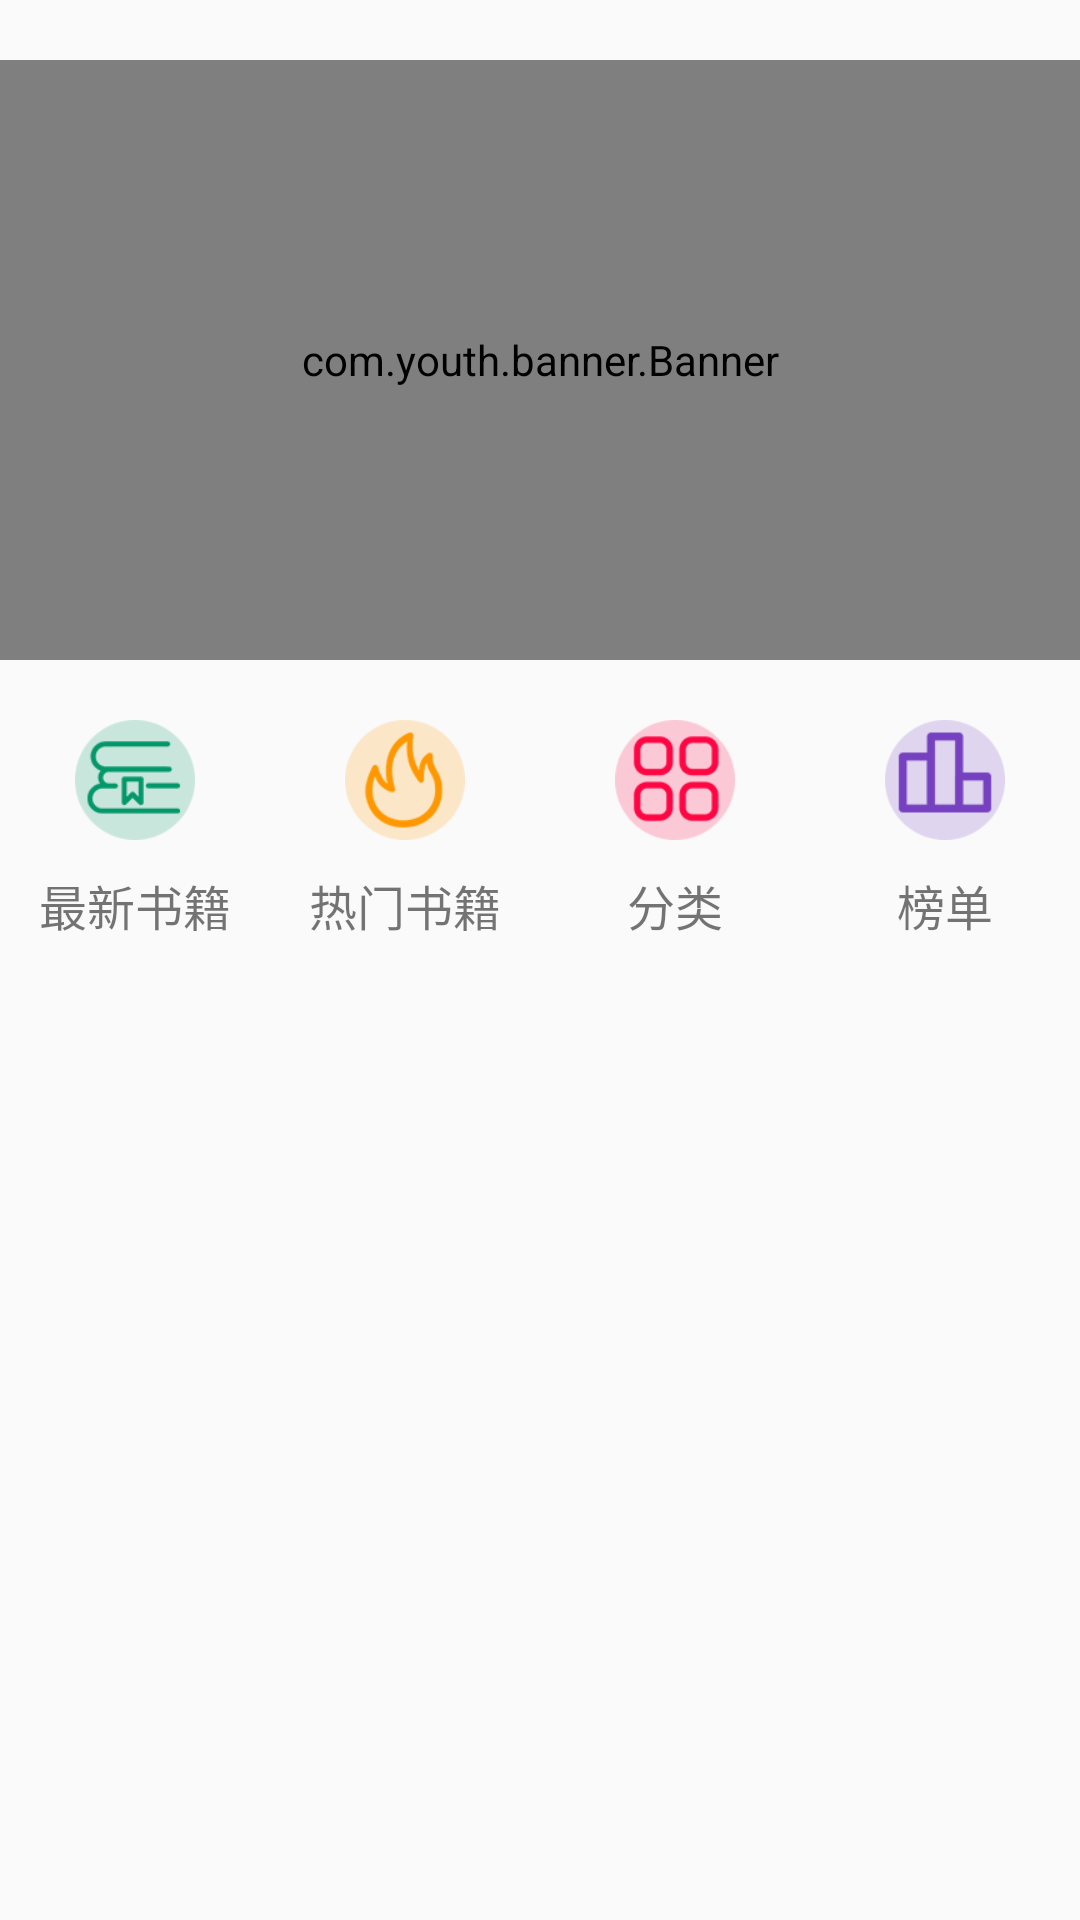

Icon click points for this 1080 × 1920 phone screenshot, format (x,y):
books: (135,780)
